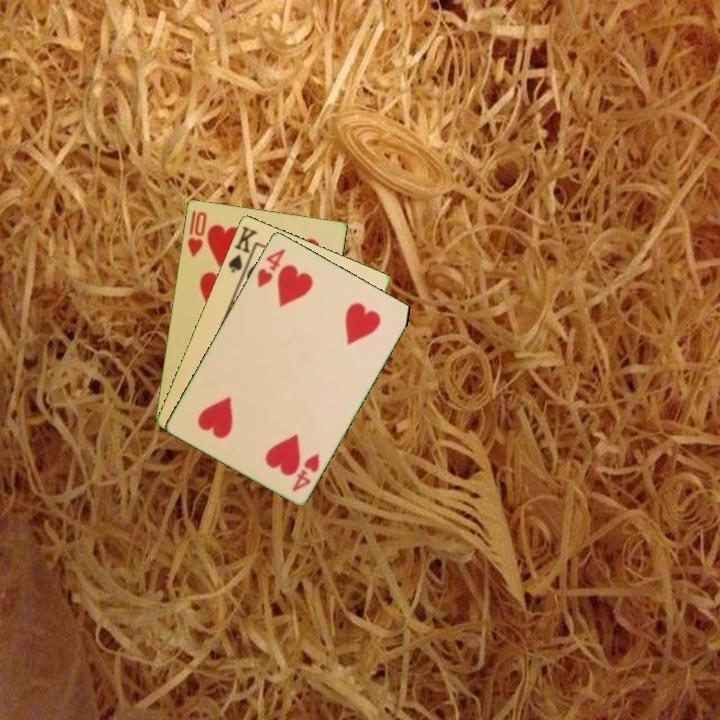10h: (184, 206, 209, 259)
4h: (253, 244, 288, 290), (288, 450, 322, 494)
Ks: (225, 222, 260, 275)
